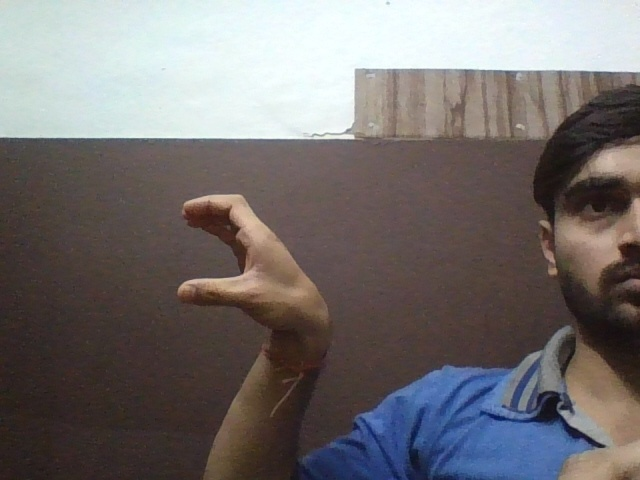C: (162, 182, 333, 342)
